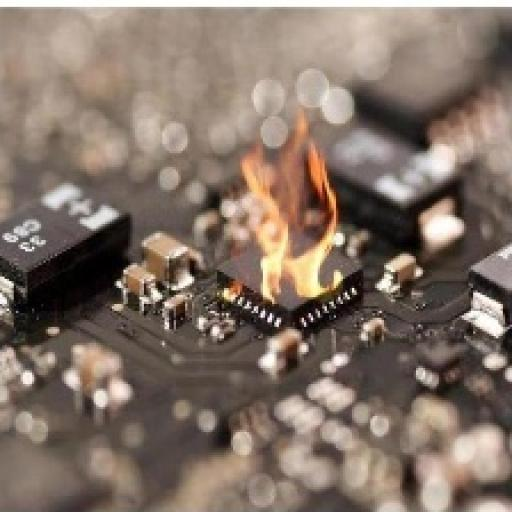fire and smoke: (242, 112, 343, 297)
